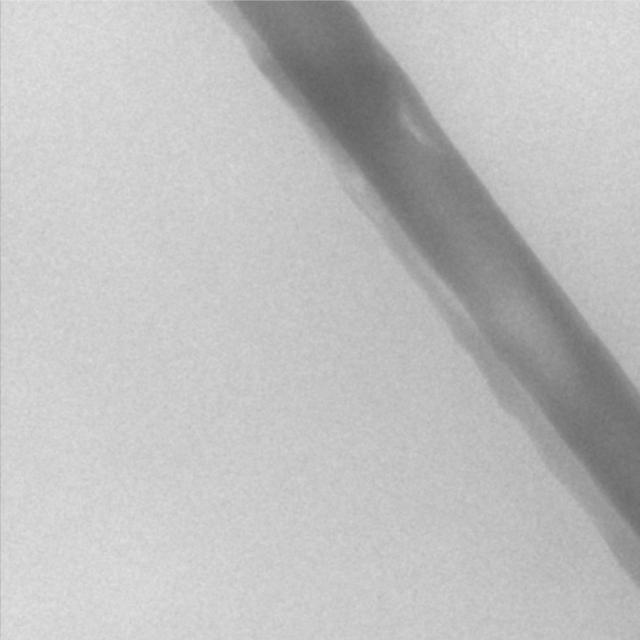unfused: (459, 216, 581, 396), (397, 93, 440, 149)
